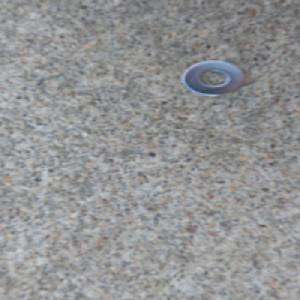Washer: (180, 58, 248, 97)
